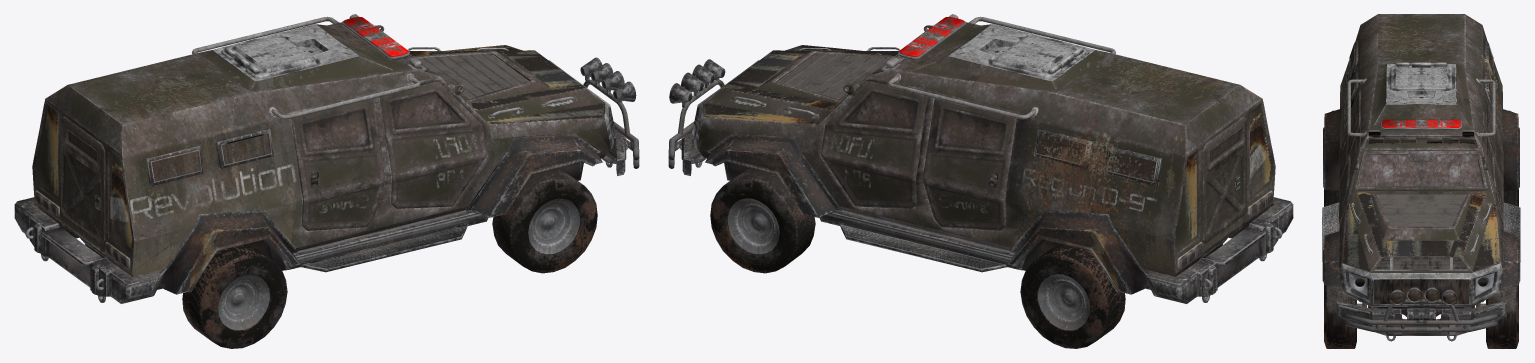
File: Car.fbx
3 views of the same model, side by side, from view 1: azimuth 30°, elevation 25°; view 2: azimuth 150°, elevation 25°; view 3: azimuth 270°, elevation 25° (orthographic). The views are drawn at different scales.
Visible parts, largest first — view 1: CAR_Low.002; view 2: CAR_Low.002; view 3: CAR_Low.002.
Boxes of the visible parts, x1,y1,x2,y2 form: CAR_Low.002: (14, 14, 639, 348); CAR_Low.002: (668, 14, 1293, 348); CAR_Low.002: (1322, 14, 1520, 348).
Size of the model in its own units: 647 by 258 by 251.
Materials: 1 (1 with a texture image).
